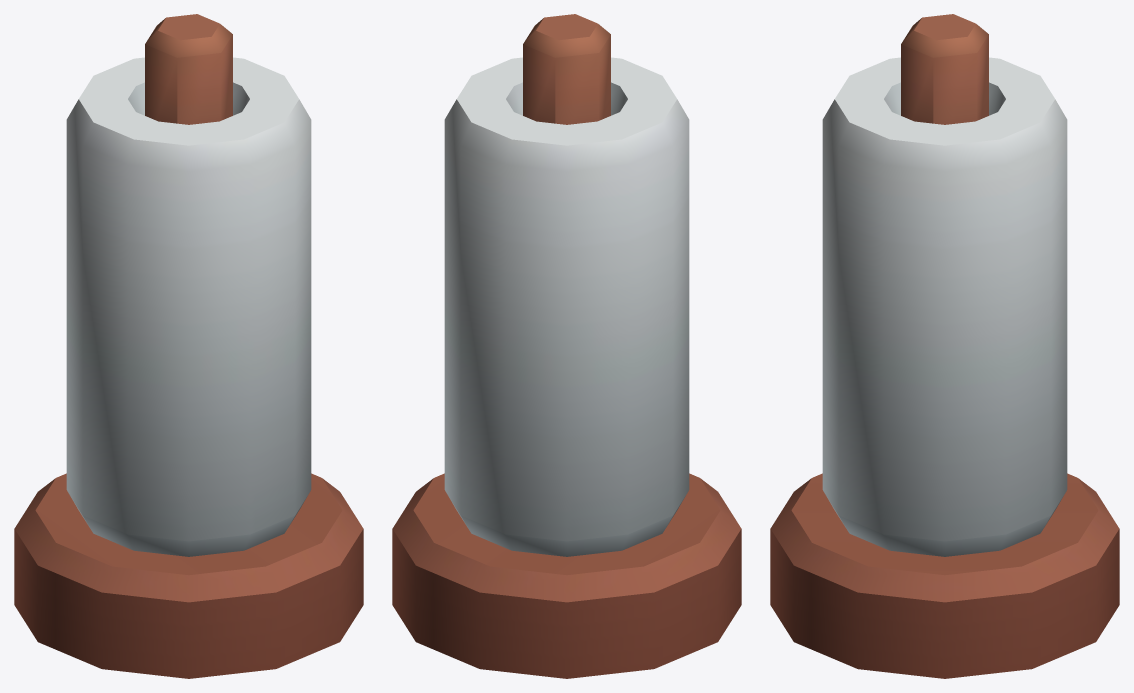
Rendered from kaykit-restaurant-bits-papertowel.glb.
3 views of the same model, side by side, from view 1: azimuth 30°, elevation 25°; view 2: azimuth 150°, elevation 25°; view 3: azimuth 270°, elevation 25° (orthographic).
Visible parts, largest first — view 1: papertowel; view 2: papertowel; view 3: papertowel.
Part boxes in pixels (x1,y1,x2,y2): papertowel: (14,14,363,678); papertowel: (392,14,741,678); papertowel: (770,14,1119,678).
Size of the model in its own units: 0.5 by 0.9138 by 0.5.
Materials: 1 (1 with a texture image).
